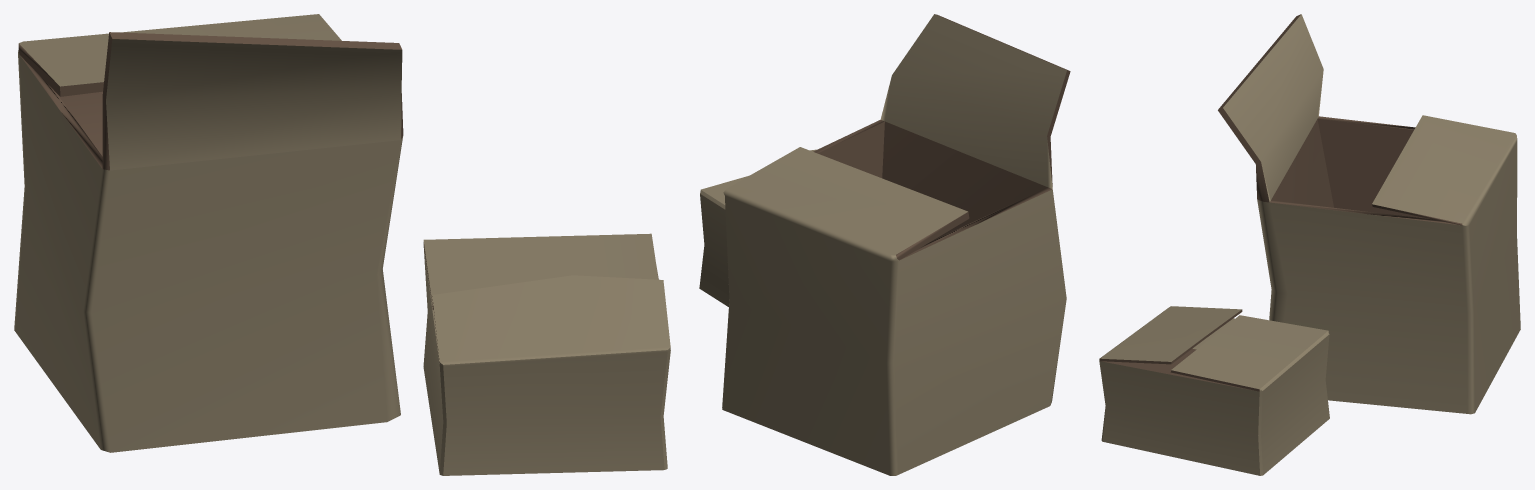
The model's file is sm_scatoloni.fbx.
The picture shows the model from 3 angles, left to right: view 1: azimuth 30°, elevation 25°; view 2: azimuth 150°, elevation 25°; view 3: azimuth 270°, elevation 25°; orthographic projection. The views are drawn at different scales.
Parts seen in each view (by area): view 1: cartone; view 2: cartone; view 3: cartone.
Part boxes in pixels (left/top/right/bottom): cartone: left=14, top=14, right=670, bottom=475; cartone: left=699, top=14, right=1070, bottom=475; cartone: left=1099, top=14, right=1520, bottom=475.
Bounding box in the file's own units: 155 × 122 × 159.
